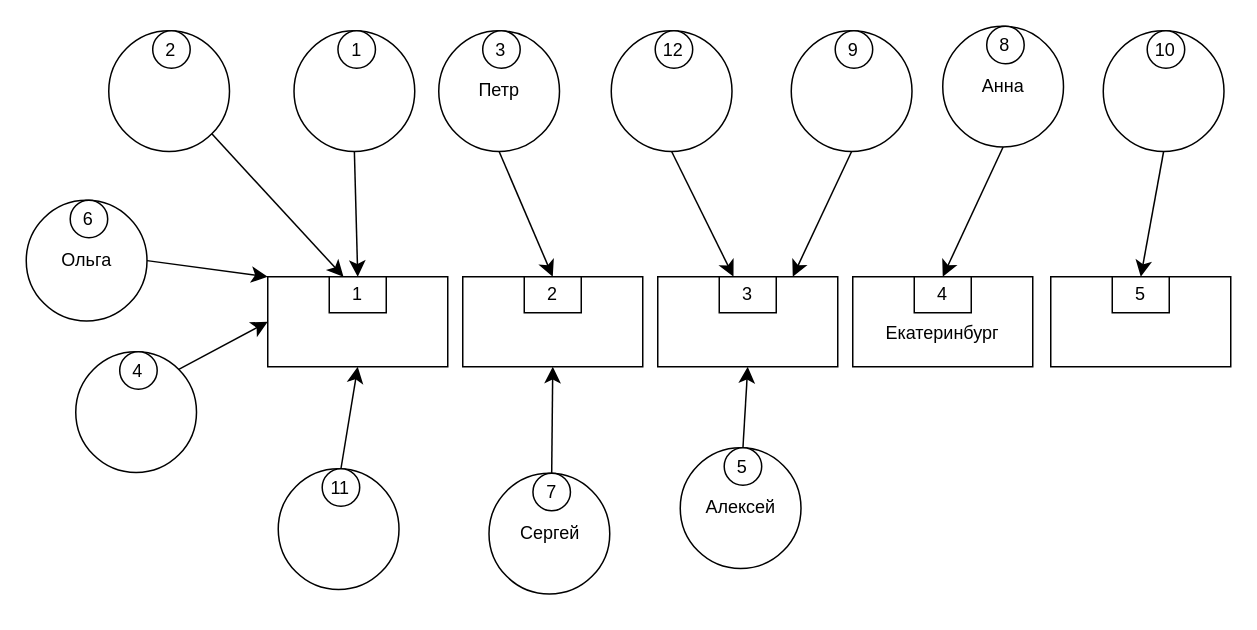
Image size: 1257x630. Some labels were removed from this diagram. The box of each missing label's shape, as (x1, y1, x2, y2) in pixels:
Дмитрий: (790, 29, 912, 152)
Екатерина: (1102, 29, 1224, 152)
Елена: (74, 350, 196, 472)
Иван: (292, 29, 415, 152)
Казань: (1049, 275, 1231, 367)
Мария: (107, 29, 230, 152)
Москва: (266, 275, 448, 367)
Николай: (277, 467, 399, 590)
Новосибирск: (656, 275, 838, 367)
Санкт-Петербург: (461, 275, 643, 367)
Татьяна: (610, 29, 732, 152)
